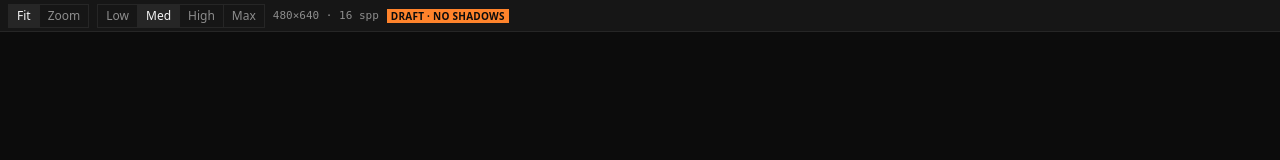
Test: PreviewCanvas — chế độ Zoom › vào Zoom thì căn giữa ở mức vừa khung, không nhảy hình
The image size is (1280, 160).
Step 1. Click the radio button labelled "Zoom" → (64, 16), box top-left (40, 4), bottom-right (88, 26)
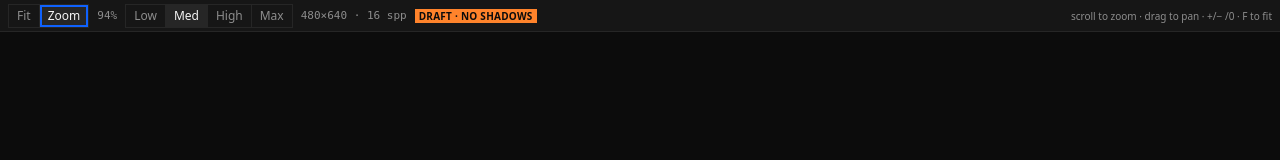
Result: the text with test id "zoom-level" reads "94%" at top-left (97, 8), bottom-right (117, 24)
